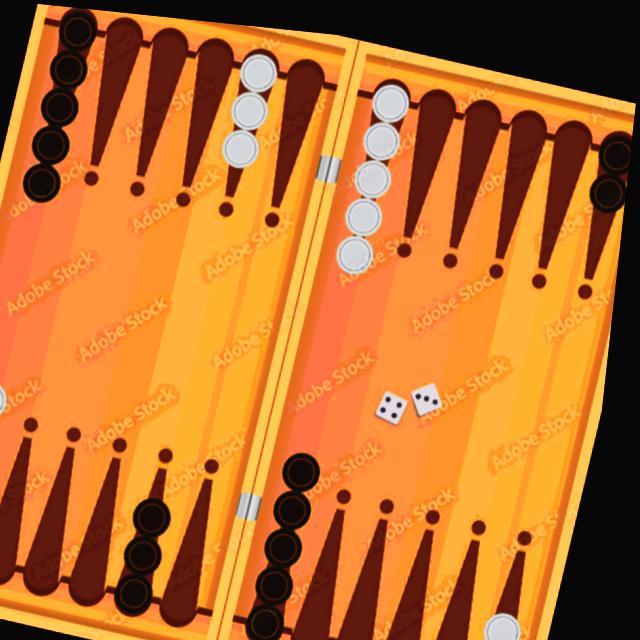bar: (217, 39, 367, 640)
board: (0, 0, 640, 640)
dark_p: (274, 473, 332, 530), (119, 561, 175, 617), (19, 155, 74, 210), (135, 485, 190, 539), (268, 515, 322, 569), (26, 117, 82, 169), (127, 525, 182, 577), (49, 4, 104, 54), (34, 80, 89, 130), (284, 437, 335, 489), (262, 552, 313, 602), (251, 593, 304, 640), (46, 41, 95, 91), (583, 153, 631, 204), (592, 114, 634, 164)
dice: (413, 366, 459, 412), (378, 376, 420, 421)
light_p: (357, 106, 413, 161), (333, 220, 387, 275), (217, 117, 270, 169), (350, 145, 403, 195), (367, 66, 417, 119), (224, 81, 277, 131), (341, 184, 395, 232), (234, 40, 284, 91), (492, 593, 541, 640), (0, 373, 24, 428), (0, 412, 17, 463), (0, 448, 9, 502), (480, 635, 531, 640), (0, 485, 3, 541)
